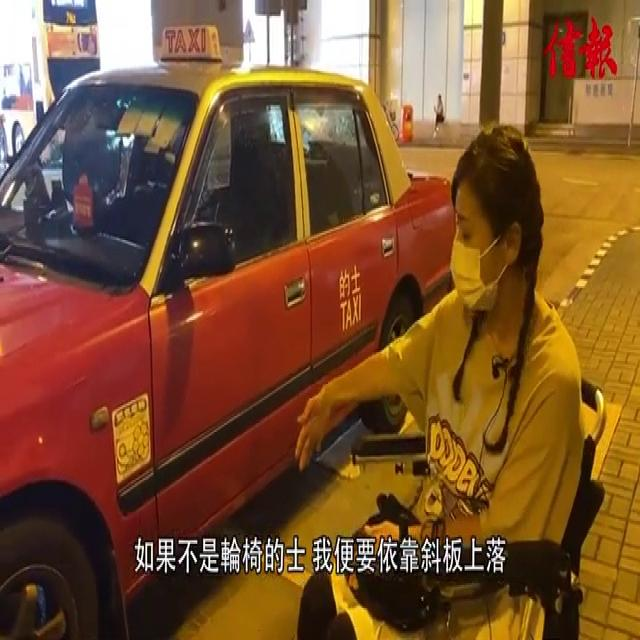wheelchairs: (346, 366, 612, 624)
